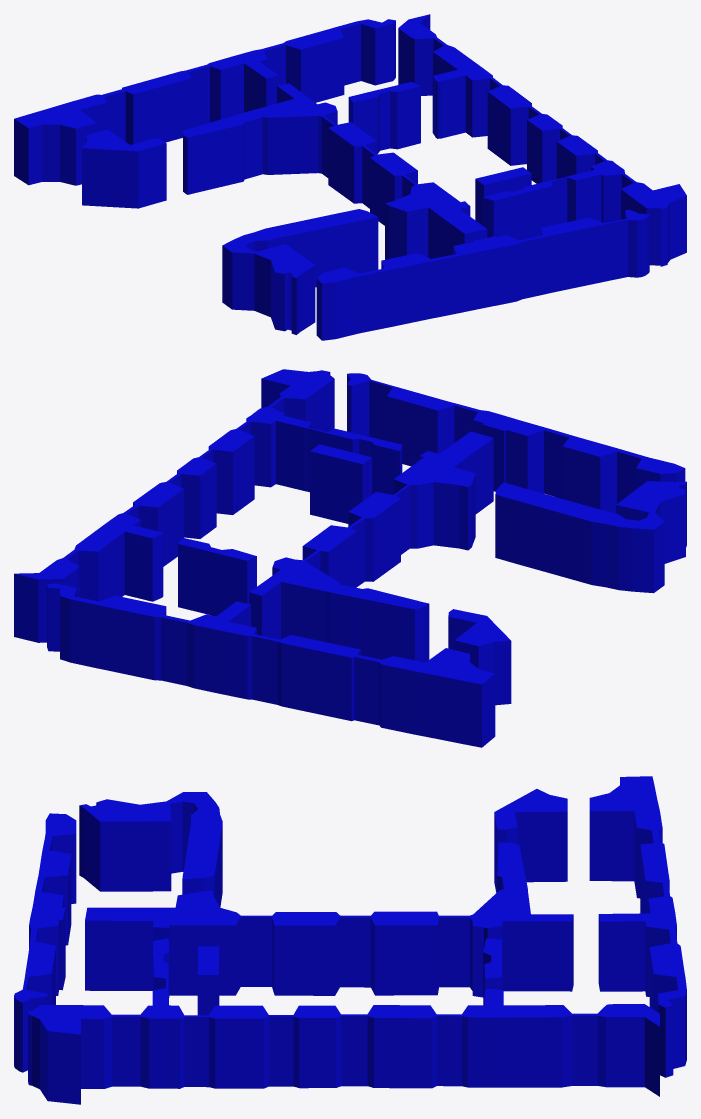
Rendered from madama_world.dae.
The picture shows the model from 3 angles, top to bottom: view 1: azimuth 30°, elevation 25°; view 2: azimuth 150°, elevation 25°; view 3: azimuth 270°, elevation 25°; orthographic projection. The views are drawn at different scales.
Parts seen in each view (by area): view 1: Plane.007; view 2: Plane.007; view 3: Plane.007.
Boxes of the visible parts, box(x1,y1,x2,y2) form: Plane.007: box(14, 14, 686, 340); Plane.007: box(14, 369, 686, 747); Plane.007: box(14, 776, 686, 1104).
Bounding box in the file's own units: 39.55 × 43.52 × 5.
